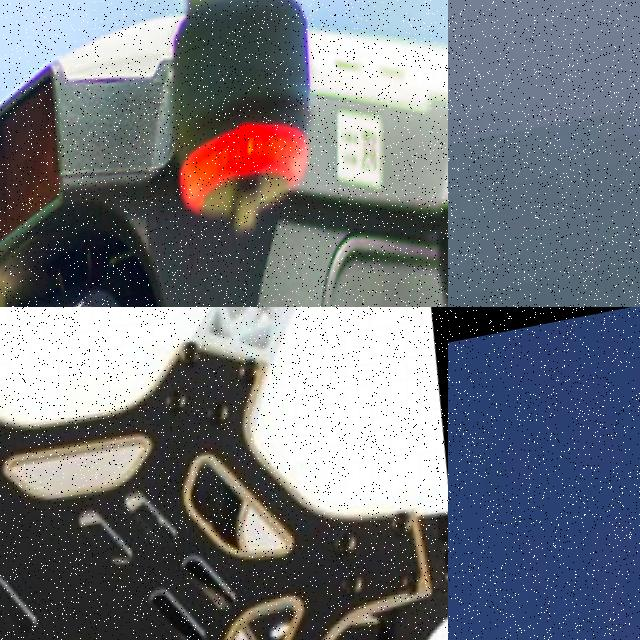drone: (0, 307, 448, 640), (0, 0, 448, 307)
